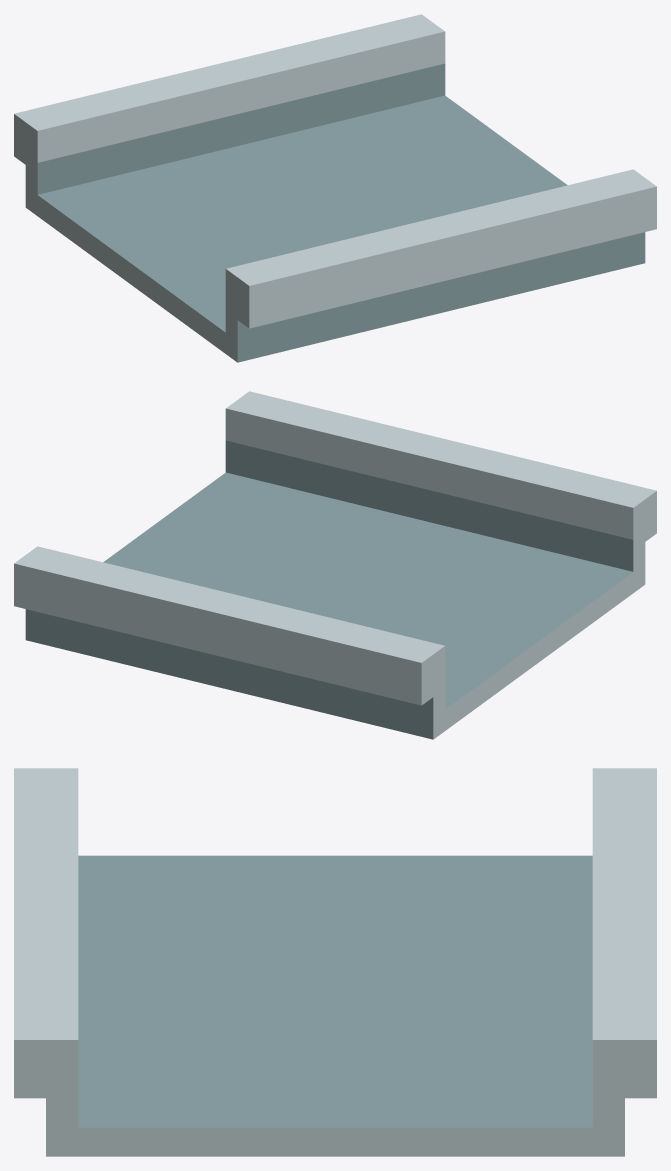
File: bridge_center_stoneRound.glb
3 views of the same model, one above another, from view 1: azimuth 30°, elevation 25°; view 2: azimuth 150°, elevation 25°; view 3: azimuth 270°, elevation 25° (orthographic). The views are drawn at different scales.
Parts seen in each view (by area): view 1: bridge_center_stoneRound; view 2: bridge_center_stoneRound; view 3: bridge_center_stoneRound.
Part boxes in pixels (bbox=[...]): bridge_center_stoneRound: bbox=[14, 14, 656, 362]; bridge_center_stoneRound: bbox=[14, 391, 656, 739]; bridge_center_stoneRound: bbox=[14, 768, 656, 1156].
Size of the model in its own units: 1 by 0.2 by 1.
